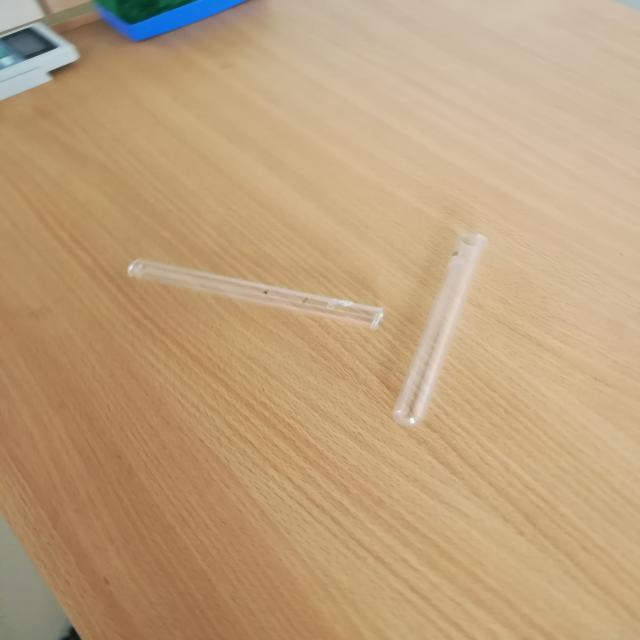Test_Tube: (84, 226, 396, 354), (388, 196, 533, 447)
